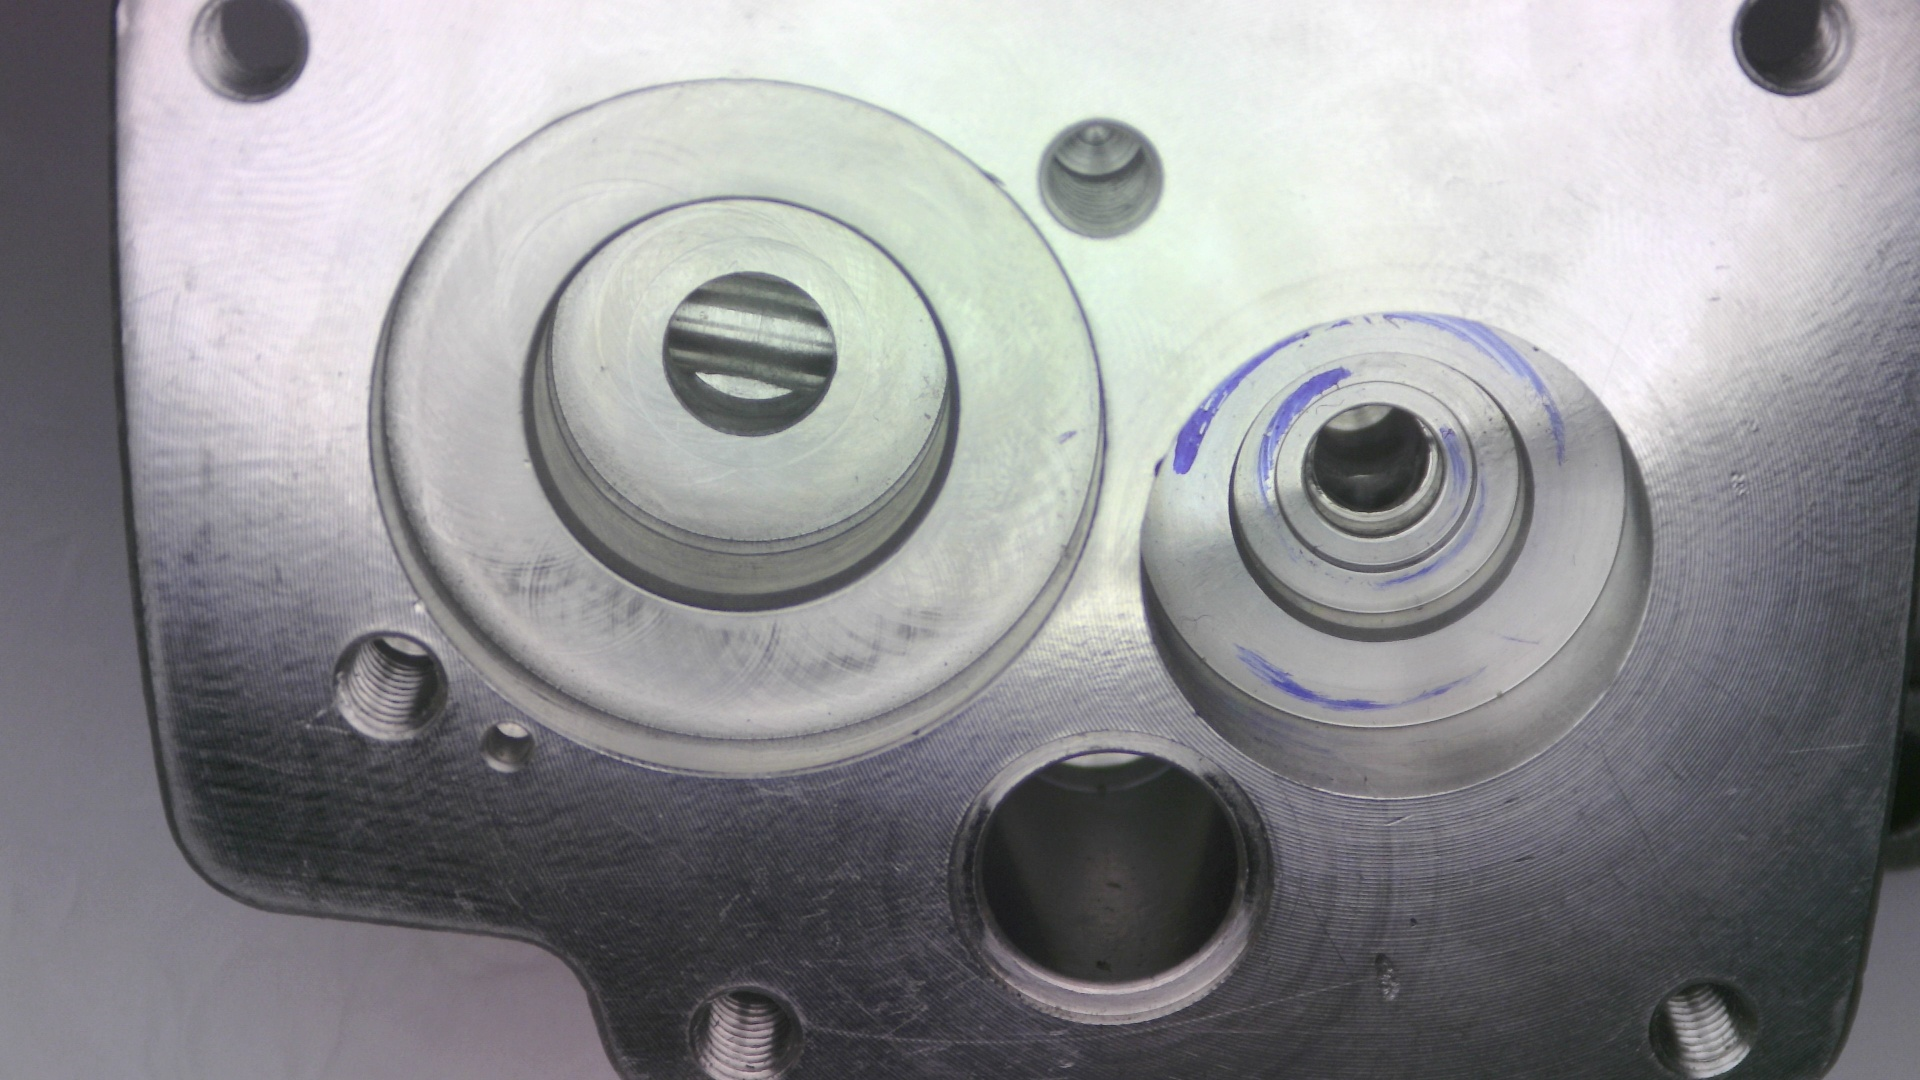chamfer_presence: (1396, 843, 1582, 885)
